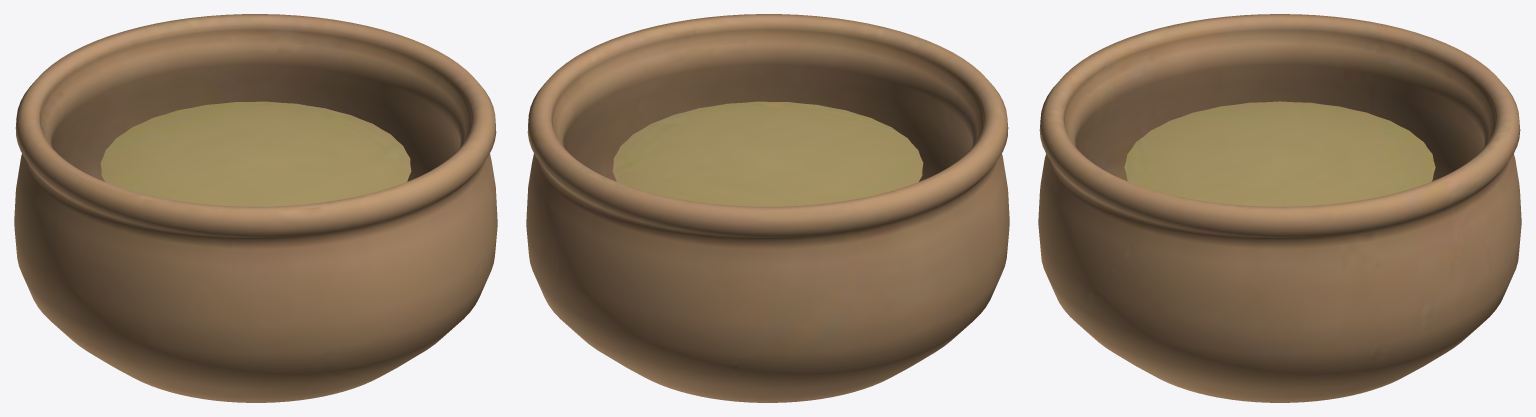
Rendered from ointment.glb.
The picture shows the model from 3 angles, left to right: view 1: azimuth 30°, elevation 25°; view 2: azimuth 150°, elevation 25°; view 3: azimuth 270°, elevation 25°; orthographic projection.
Parts seen in each view (by area): view 1: ointment; view 2: ointment; view 3: ointment.
Part boxes in pixels (x1,y1,x2,y2): ointment: (14, 14, 497, 402); ointment: (526, 14, 1009, 402); ointment: (1038, 14, 1521, 402).
Bounding box in the file's own units: 0.0729 × 0.0399 × 0.0729.
1 material, 1 textured.
